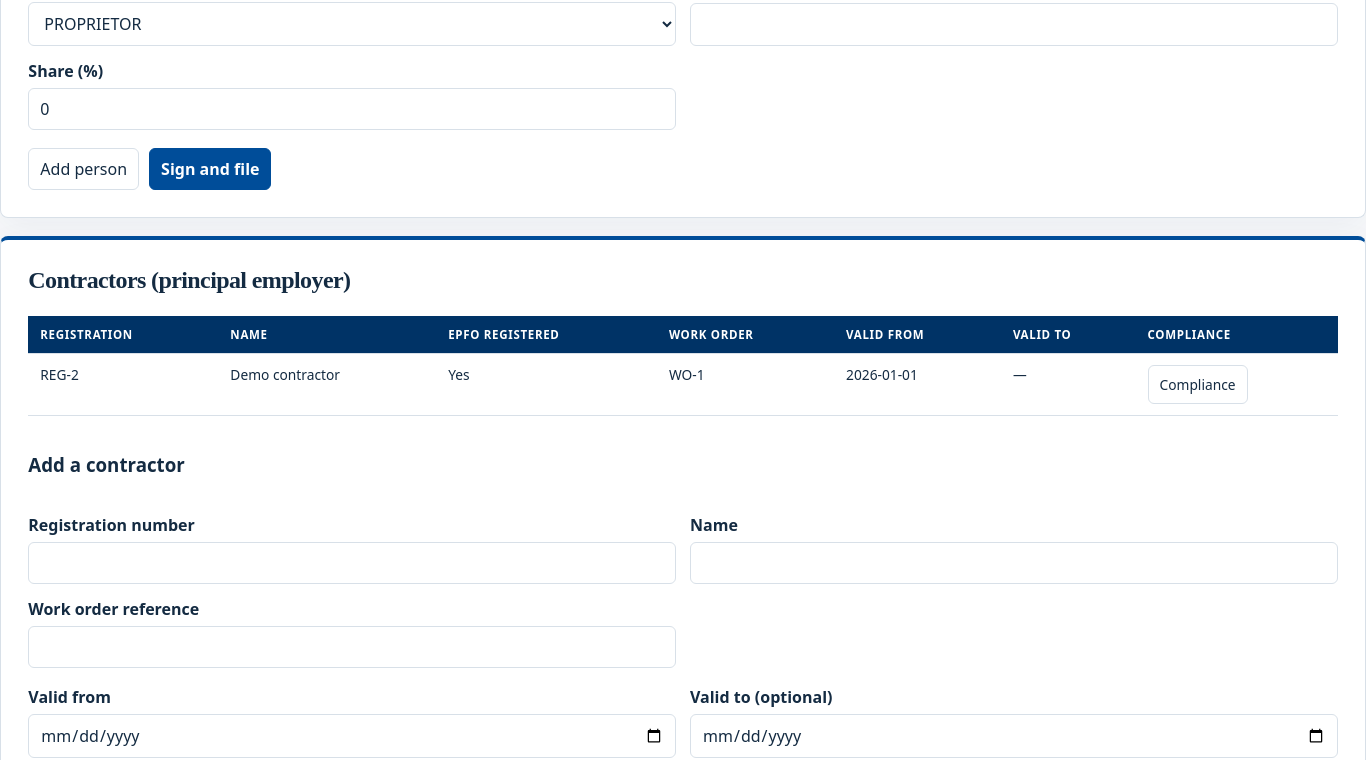
shows an unpaid contractor month in the compliance table
(page scrolled)
Step 1. Click the button "Compliance" → (1198, 384), box [1148,365,1248,404]
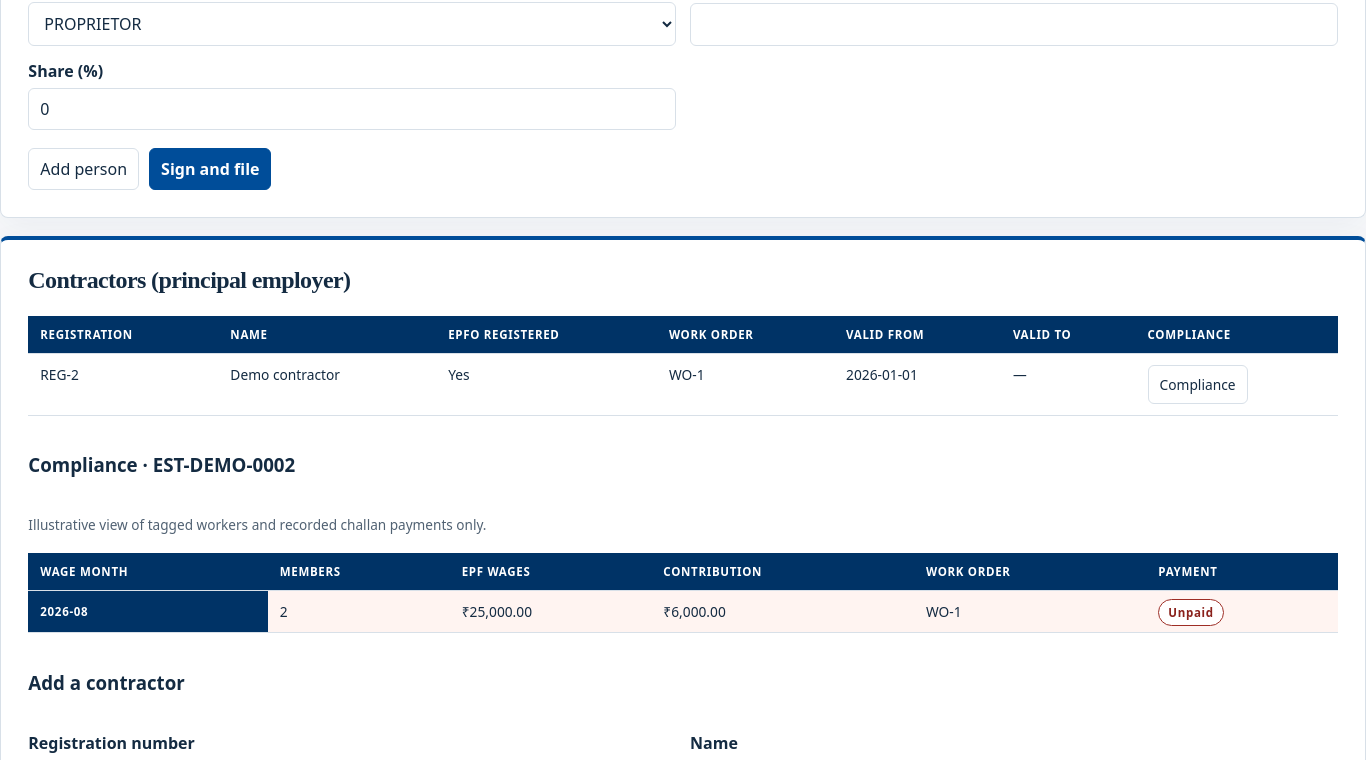
Expected: the text "Unpaid" is shown, [1158,599,1224,626]
